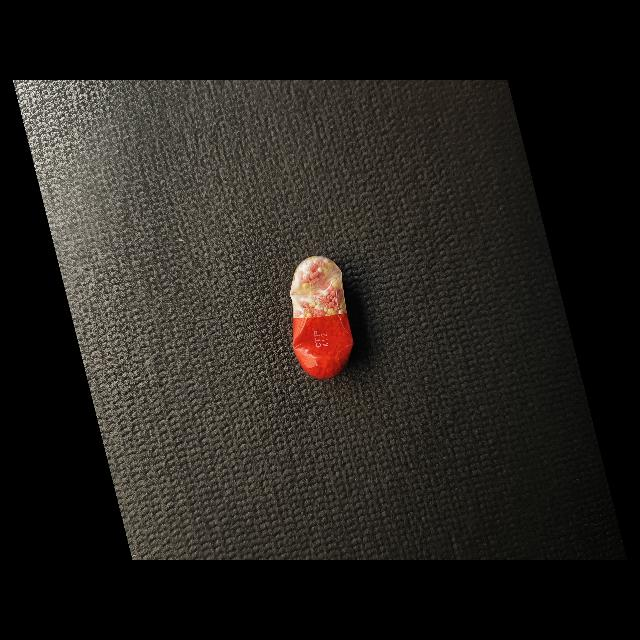Defective Capsule: (290, 256, 354, 380)
